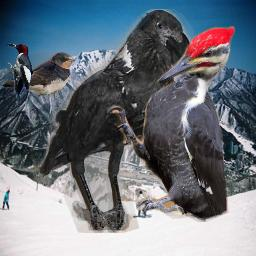Crow: (40, 9, 194, 233)
Swallow: (1, 51, 75, 98)
Woodpecker: (107, 26, 235, 222), (7, 43, 32, 106)
